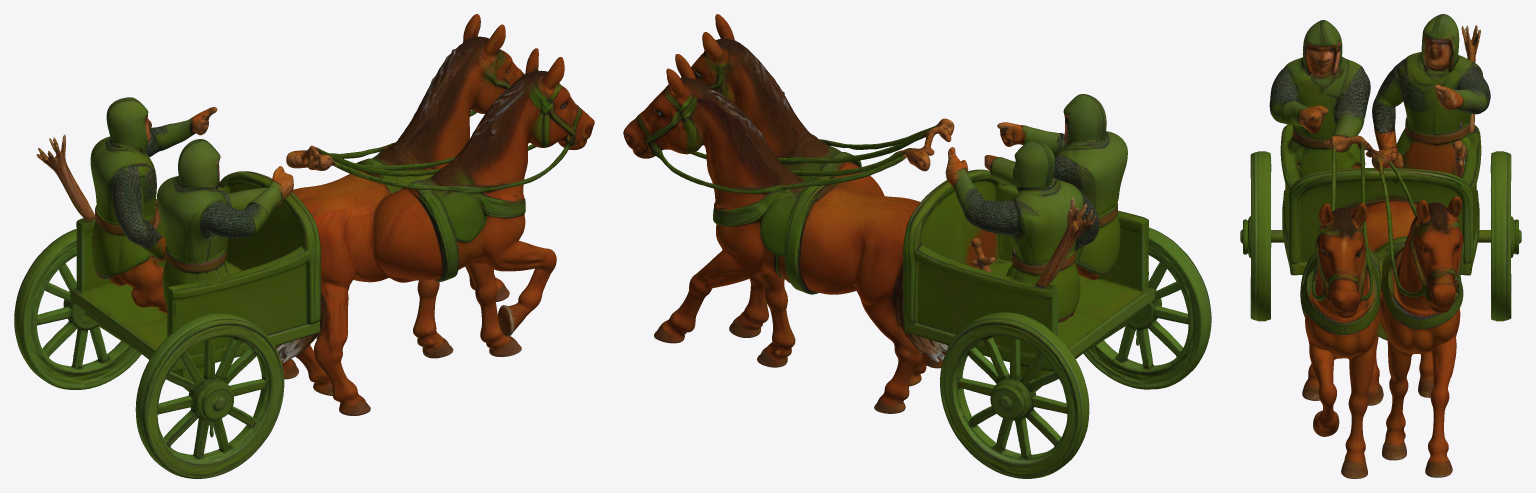
3 renders of one model, left to right at view 1: azimuth 30°, elevation 25°; view 2: azimuth 150°, elevation 25°; view 3: azimuth 270°, elevation 25°, orthographic. The views are drawn at different scales.
Visible parts, largest first — view 1: tripo_node_48b493eb-7ad9-4928-a18e-262e0ef780fd; view 2: tripo_node_48b493eb-7ad9-4928-a18e-262e0ef780fd; view 3: tripo_node_48b493eb-7ad9-4928-a18e-262e0ef780fd.
Boxes of the visible parts, x1,y1,x2,y2 form: tripo_node_48b493eb-7ad9-4928-a18e-262e0ef780fd: (14,14,594,478); tripo_node_48b493eb-7ad9-4928-a18e-262e0ef780fd: (623,14,1211,478); tripo_node_48b493eb-7ad9-4928-a18e-262e0ef780fd: (1240,14,1521,478).
Size of the model in its own units: 1 by 0.5988 by 0.4999.
1 material, 1 textured.
